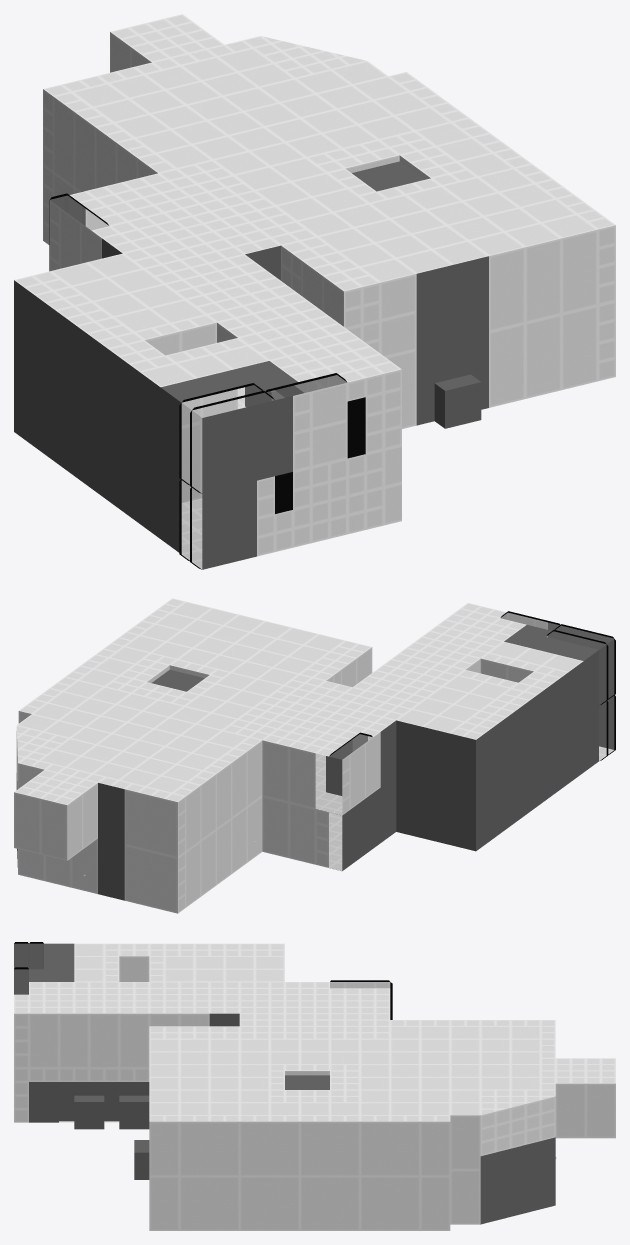
File: room.obj
The picture shows the model from 3 angles, top to bottom: view 1: azimuth 30°, elevation 25°; view 2: azimuth 150°, elevation 25°; view 3: azimuth 270°, elevation 25°; orthographic projection. The views are drawn at different scales.
Visible parts, largest first — view 1: White-material.001, White-material, Floor-material, Dark-material, Glass-material, Room-material, Dark-material.001, Display-material, Light-material, Floor-material.001, Light-material.001; view 2: Dark-material, White-material.001, White-material, Floor-material, Room-material, Glass-material, Dark-material.001, Floor-material.001, Light-material, Light-material.001; view 3: White-material, White-material.001, Floor-material, Dark-material, Room-material, Dark-material.001, Glass-material, Light-material.
Part boxes in pixels (box(x1,y1,x2,y2)): White-material.001: box(50, 48, 597, 387); White-material: box(43, 89, 615, 556); Floor-material: box(14, 36, 615, 382); Dark-material: box(14, 238, 488, 569); Glass-material: box(50, 196, 346, 568); Room-material: box(110, 14, 223, 72); Dark-material.001: box(161, 161, 424, 402); Display-material: box(275, 397, 365, 513); Light-material: box(49, 191, 201, 569); Floor-material.001: box(181, 387, 245, 569); Light-material.001: box(50, 193, 346, 410); Dark-material: box(16, 622, 614, 900); White-material.001: box(17, 601, 583, 793); White-material: box(16, 612, 547, 913); Floor-material: box(16, 598, 567, 801); Room-material: box(14, 770, 97, 860); Glass-material: box(316, 613, 613, 870); Dark-material.001: box(151, 625, 598, 691); Floor-material.001: box(315, 746, 613, 870); Light-material: box(600, 639, 615, 760); Light-material.001: box(329, 611, 613, 755); White-material: box(14, 956, 555, 1230); White-material.001: box(74, 943, 540, 1115); Floor-material: box(14, 943, 555, 1121); Dark-material: box(29, 1013, 555, 1224); Room-material: box(555, 1058, 615, 1138); Dark-material.001: box(29, 943, 329, 1089); Glass-material: box(14, 944, 389, 994); Light-material: box(14, 943, 392, 1019).
Bounding box in the file's own units: 17.6 × 5.12 × 25.
Materials: 8 (8 with a texture image).
